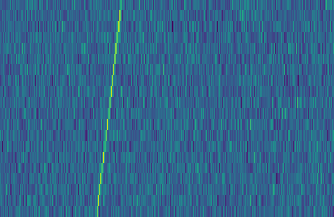signal: (91, 0, 125, 217)
